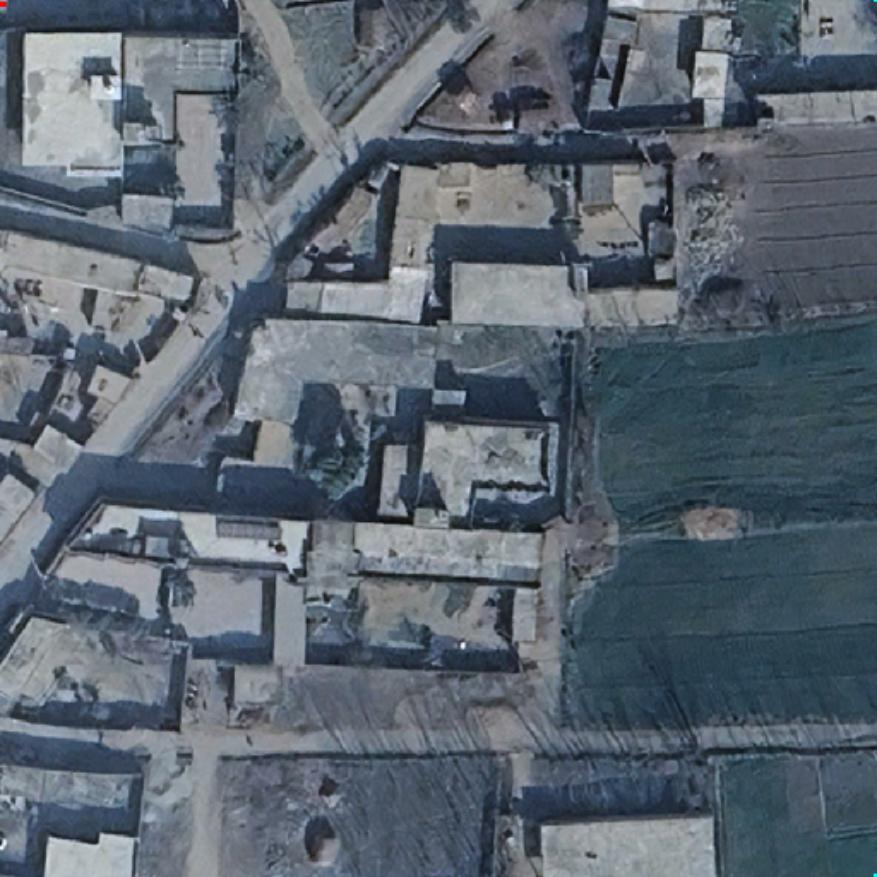Solarpanel: (213, 518, 283, 542)
